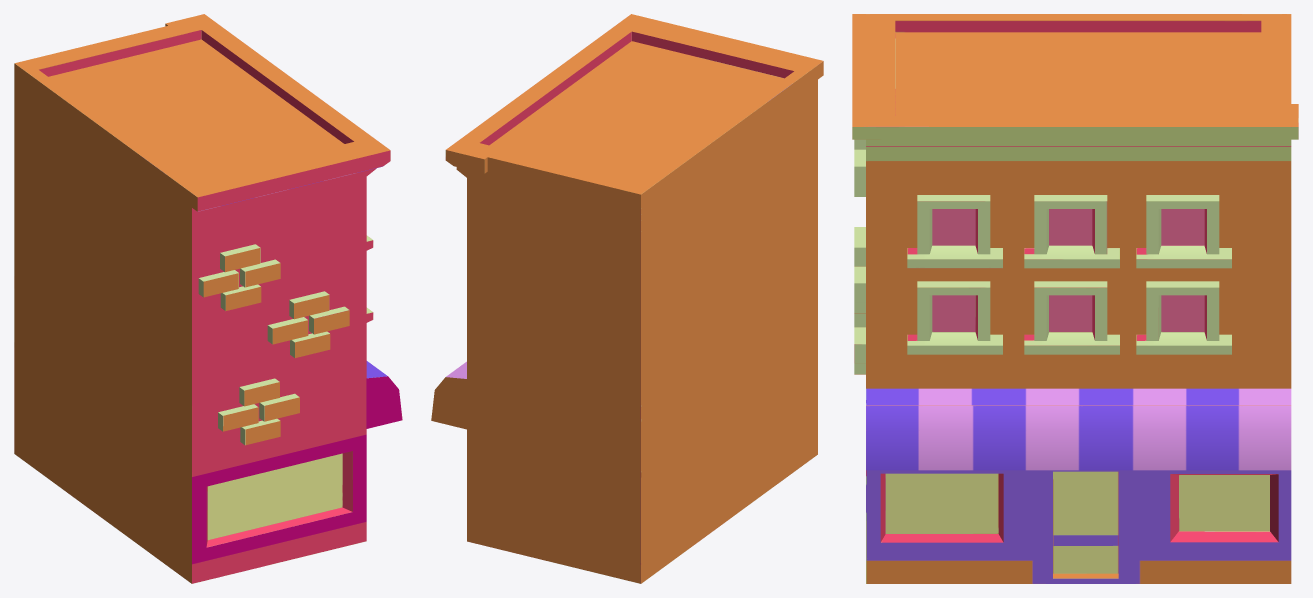
Rendered from Building 5.fbx.
3 renders of one model, left to right at view 1: azimuth 30°, elevation 25°; view 2: azimuth 150°, elevation 25°; view 3: azimuth 270°, elevation 25°, orthographic. The views are drawn at different scales.
Parts seen in each view (by area): view 1: Cube.007; view 2: Cube.007; view 3: Cube.007.
Boxes of the visible parts, left/top/right/bottom form: Cube.007: left=14, top=14, right=402, bottom=583; Cube.007: left=431, top=14, right=823, bottom=583; Cube.007: left=852, top=14, right=1298, bottom=583.
Bounding box in the file's own units: 228 × 403 × 349.
Materials: 1 (1 with a texture image).
